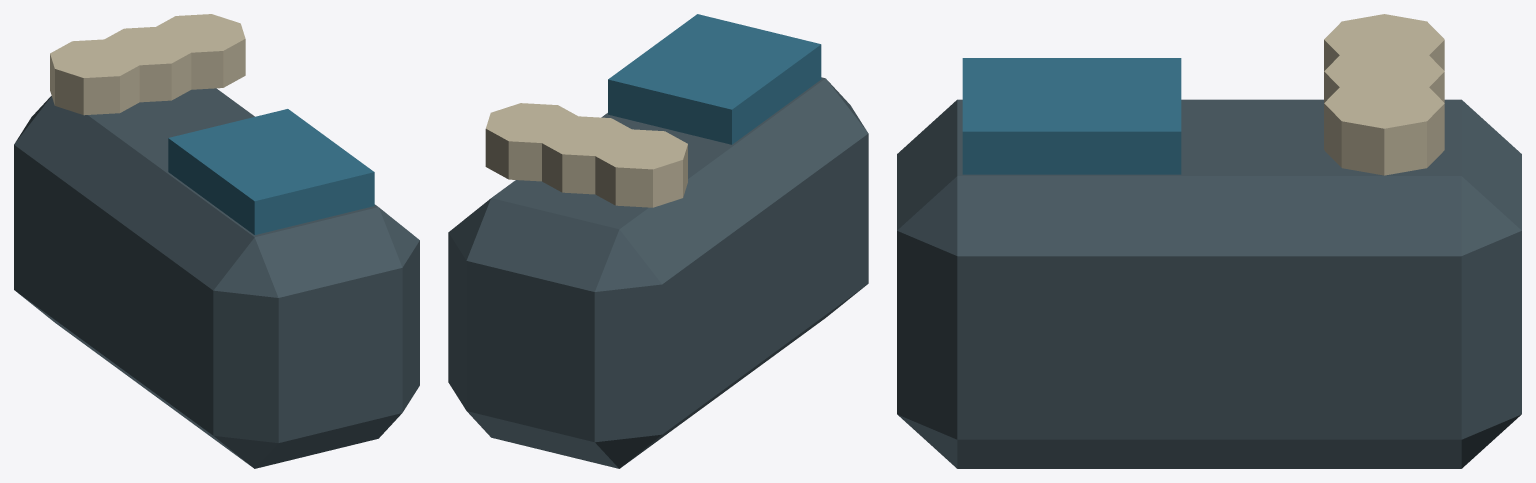
Rendered from set_computer_mouse.glb.
The picture shows the model from 3 angles, left to right: view 1: azimuth 30°, elevation 25°; view 2: azimuth 150°, elevation 25°; view 3: azimuth 270°, elevation 25°; orthographic projection. The views are drawn at different scales.
Visible parts, largest first — view 1: set_computer_mouse; view 2: set_computer_mouse; view 3: set_computer_mouse.
Boxes of the visible parts, bbox=[...] form: set_computer_mouse: bbox=[14, 14, 419, 468]; set_computer_mouse: bbox=[448, 14, 868, 468]; set_computer_mouse: bbox=[897, 14, 1521, 468].
Bounding box in the file's own units: 0.07 × 0.092 × 0.145.
